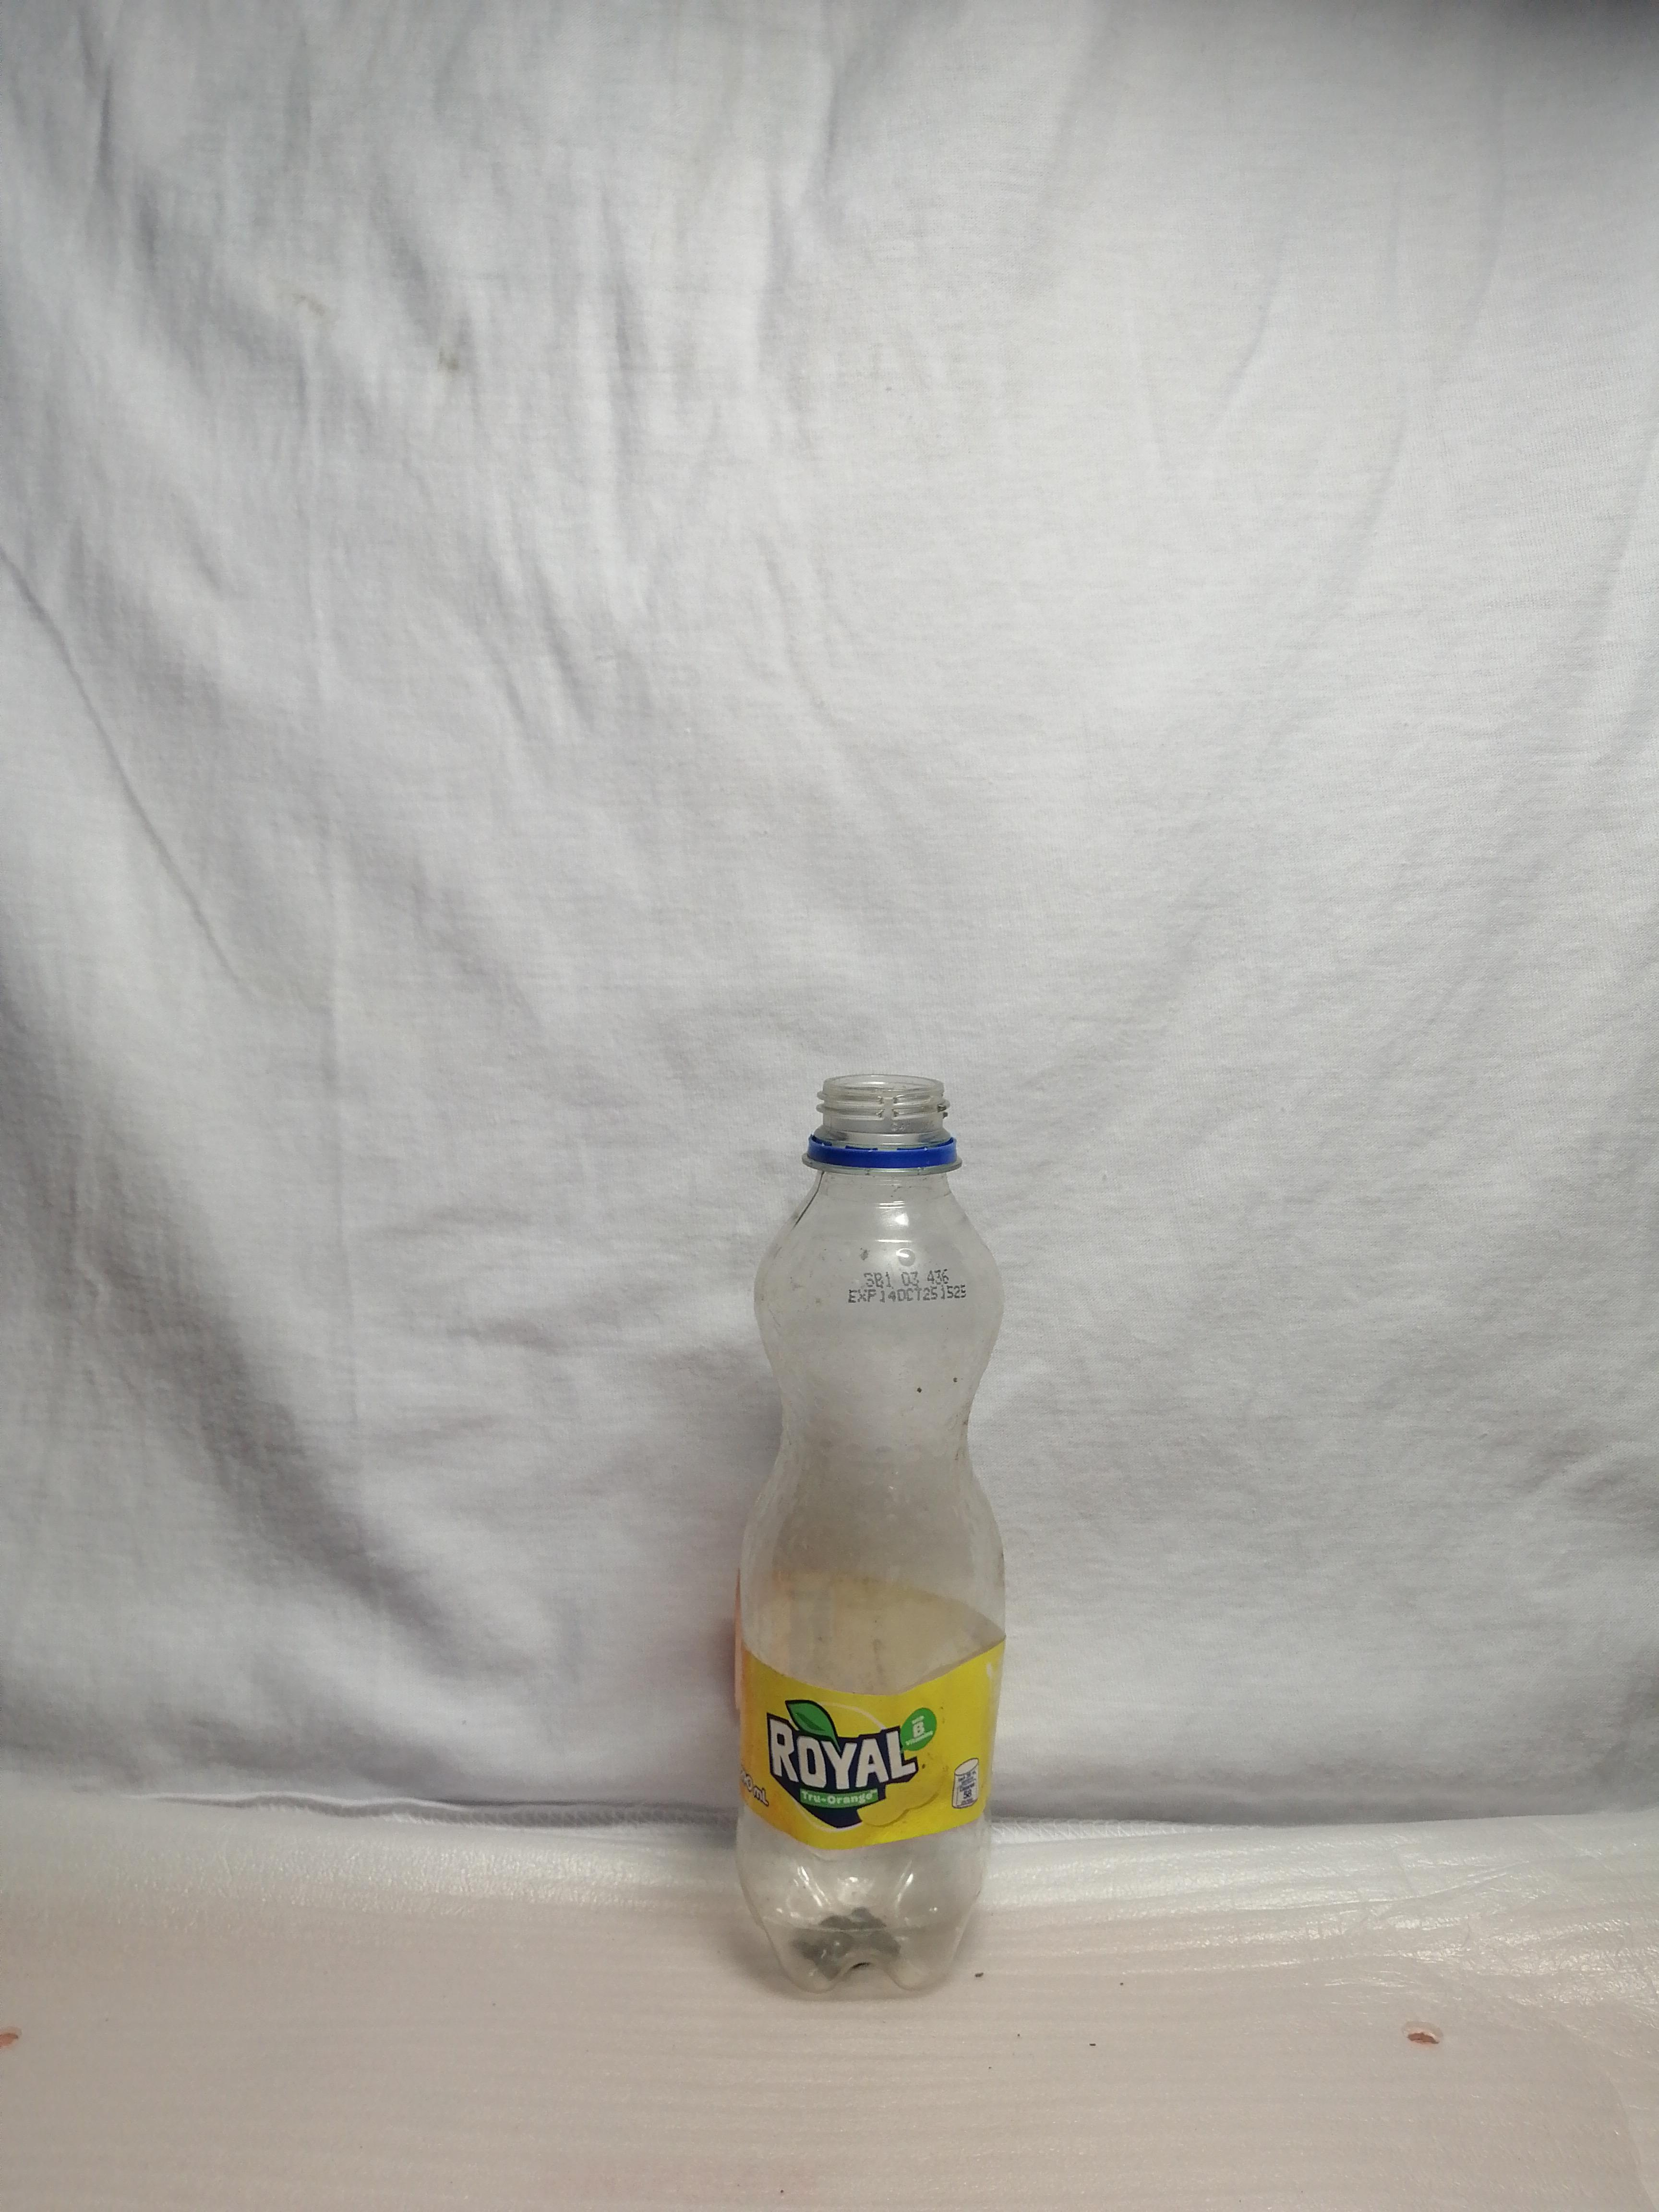plastic-bottle: (691, 1061, 1056, 2016)
